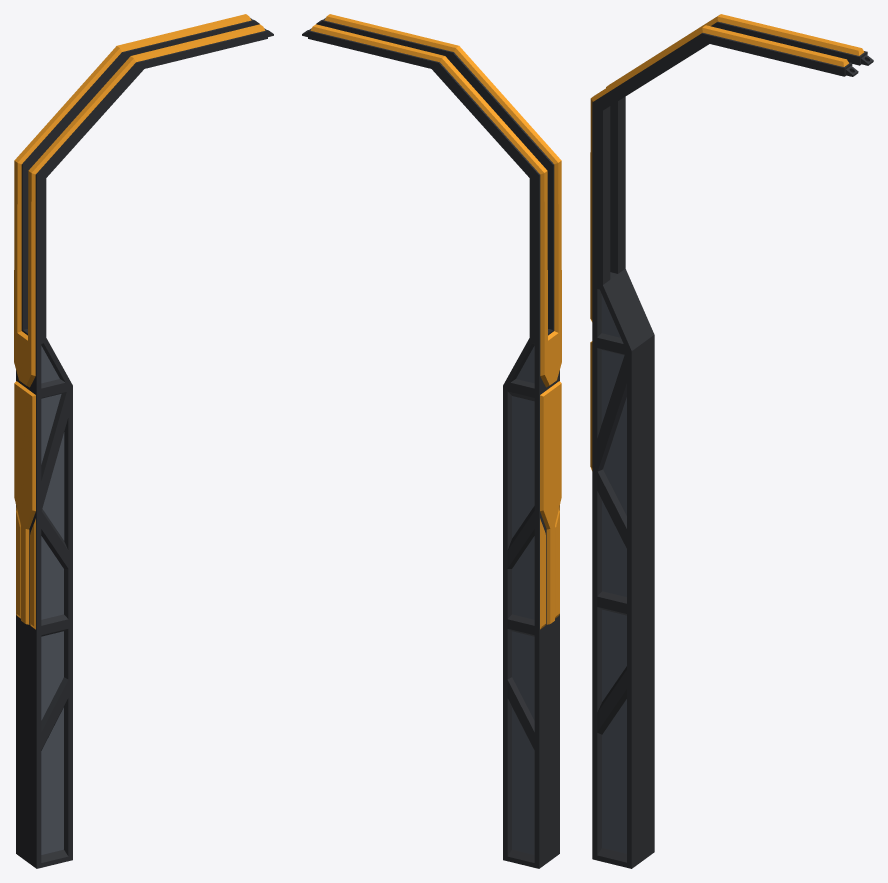
Rendered from SM_Pillar_for_the_conveyor_variation_2.glb.
3 views of the same model, side by side, from view 1: azimuth 30°, elevation 25°; view 2: azimuth 150°, elevation 25°; view 3: azimuth 330°, elevation 25° (orthographic). The views are drawn at different scales.
Parts seen in each view (by area): view 1: SM_Pillar_for_the_conveyor_variation_2; view 2: SM_Pillar_for_the_conveyor_variation_2; view 3: SM_Pillar_for_the_conveyor_variation_2.
Part boxes in pixels (x1,y1,x2,y2): SM_Pillar_for_the_conveyor_variation_2: (14,14,273,868); SM_Pillar_for_the_conveyor_variation_2: (302,14,561,868); SM_Pillar_for_the_conveyor_variation_2: (590,14,873,868).
Size of the model in its own units: 1.69 by 5.24 by 0.2523.
Materials: 1 (1 with a texture image).
